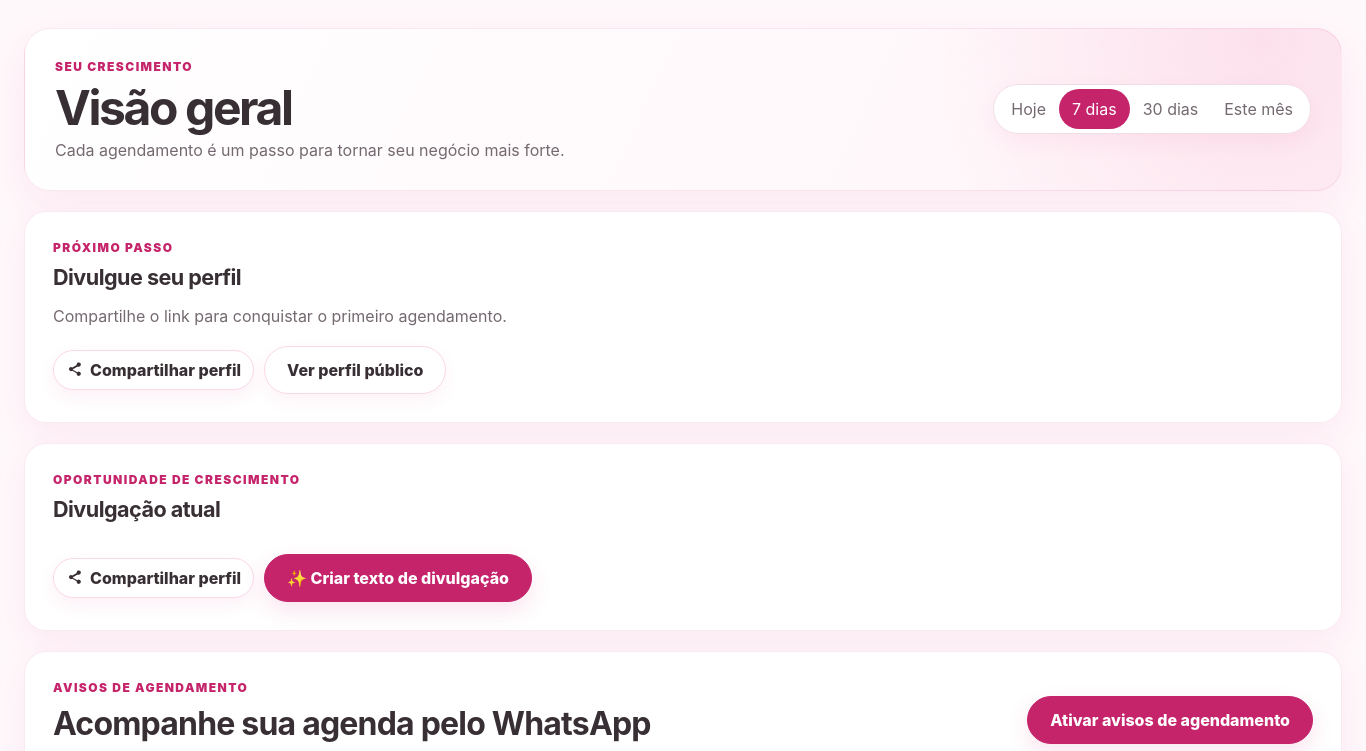
Scenario: não permite Copilot com período anterior durante atualização: success
The image size is (1366, 751).
Click the button "✨ Criar texto de divulgação".
click(398, 578)  # box [264, 554, 532, 602]
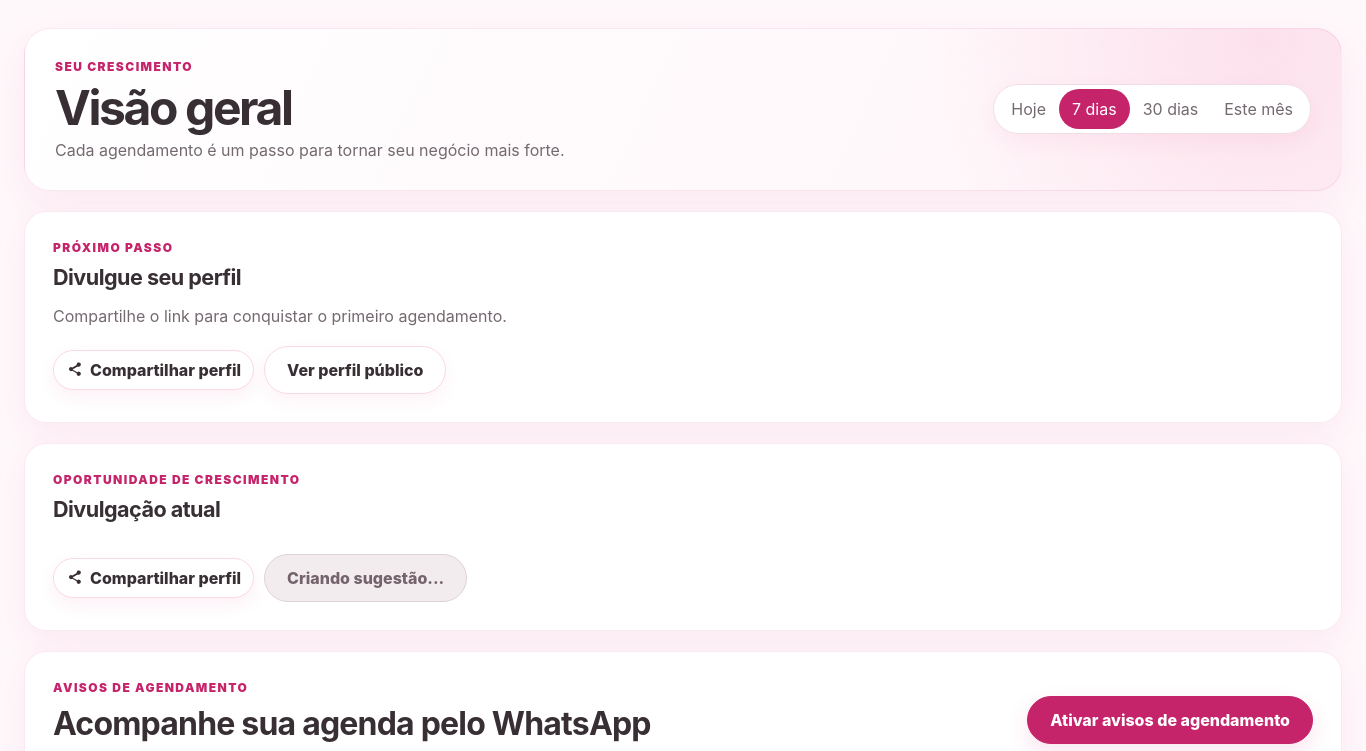
Click the button "30 dias".
click(1170, 110)  # box [1130, 90, 1211, 130]
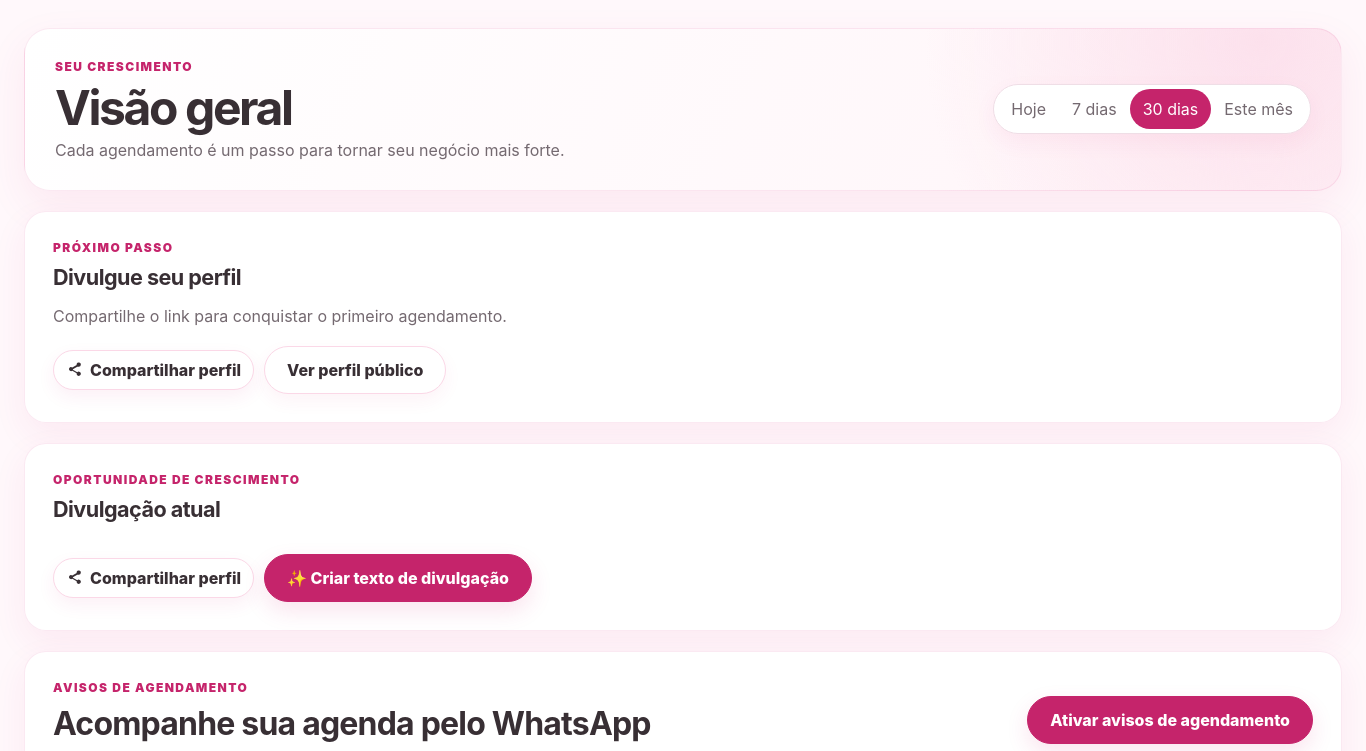
Expected: the button "✨ Criar texto de divulgação" is shown, [264, 554, 532, 602]
